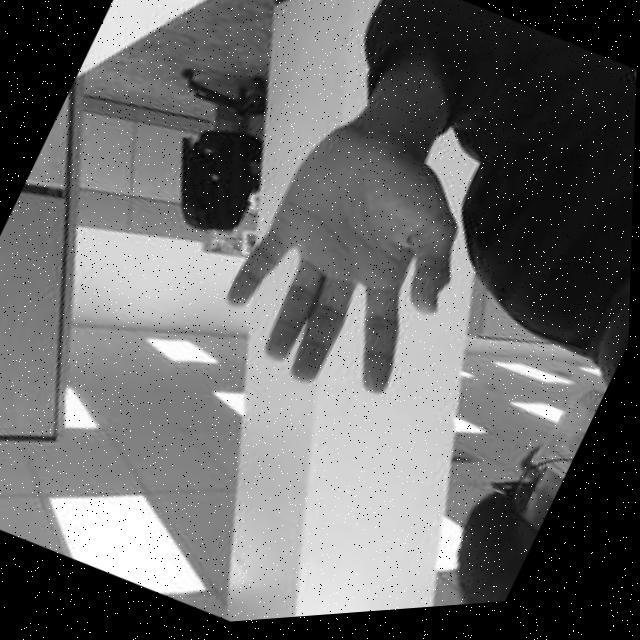no-gloves: (202, 99, 506, 434)
